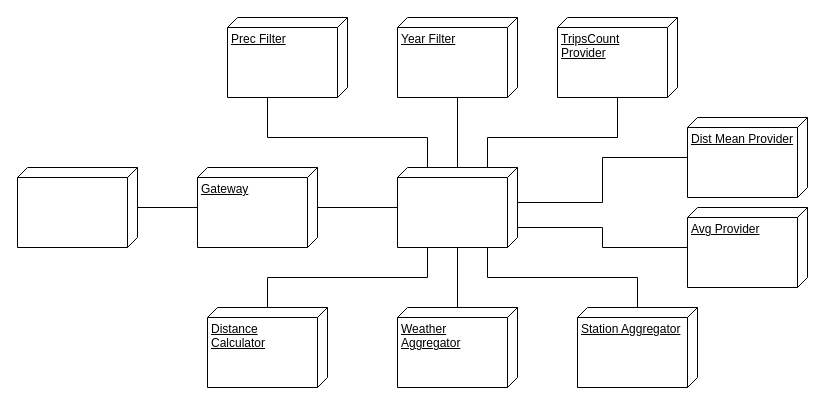
This 825x405 diagram has some shape labels left out. Here are the shapes that lost their labels. From the top down, the centre of each, then its label:
pixel 77 207: Client
pixel 457 207: Message Queue
